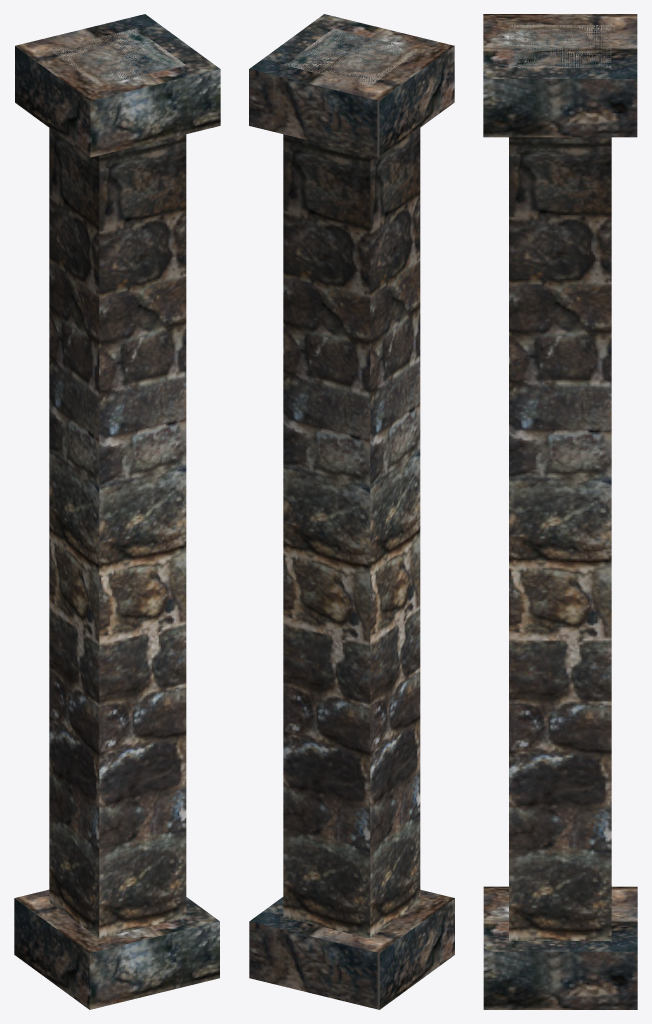
File: Lab_Column.gltf
3 views of the same model, side by side, from view 1: azimuth 30°, elevation 25°; view 2: azimuth 150°, elevation 25°; view 3: azimuth 270°, elevation 25° (orthographic). The views are drawn at different scales.
Parts seen in each view (by area): view 1: Lab_Column; view 2: Lab_Column; view 3: Lab_Column.
Part boxes in pixels (x1=…): Lab_Column: x1=14, y1=14, x2=220, y2=1009; Lab_Column: x1=249, y1=14, x2=454, y2=1009; Lab_Column: x1=483, y1=14, x2=637, y2=1009.
Bounding box in the file's own units: 0.00391 × 0.026 × 0.0039.
Materials: 1 (1 with a texture image).
